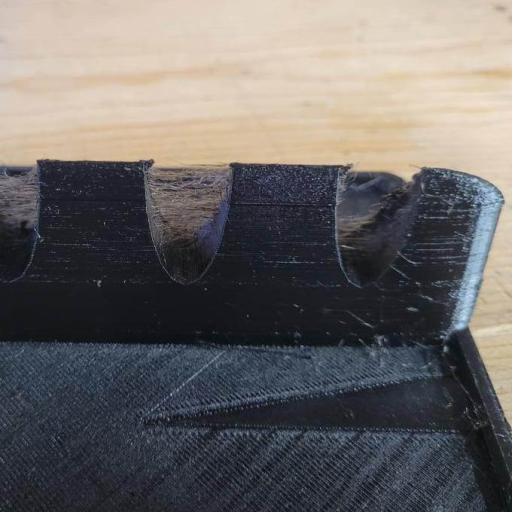stringing: (149, 169, 228, 215), (2, 169, 38, 206)
